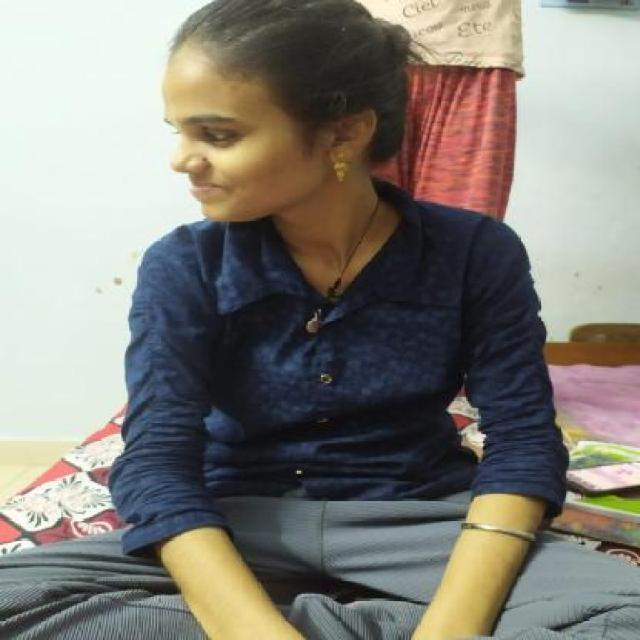cheating: (149, 5, 463, 270)
